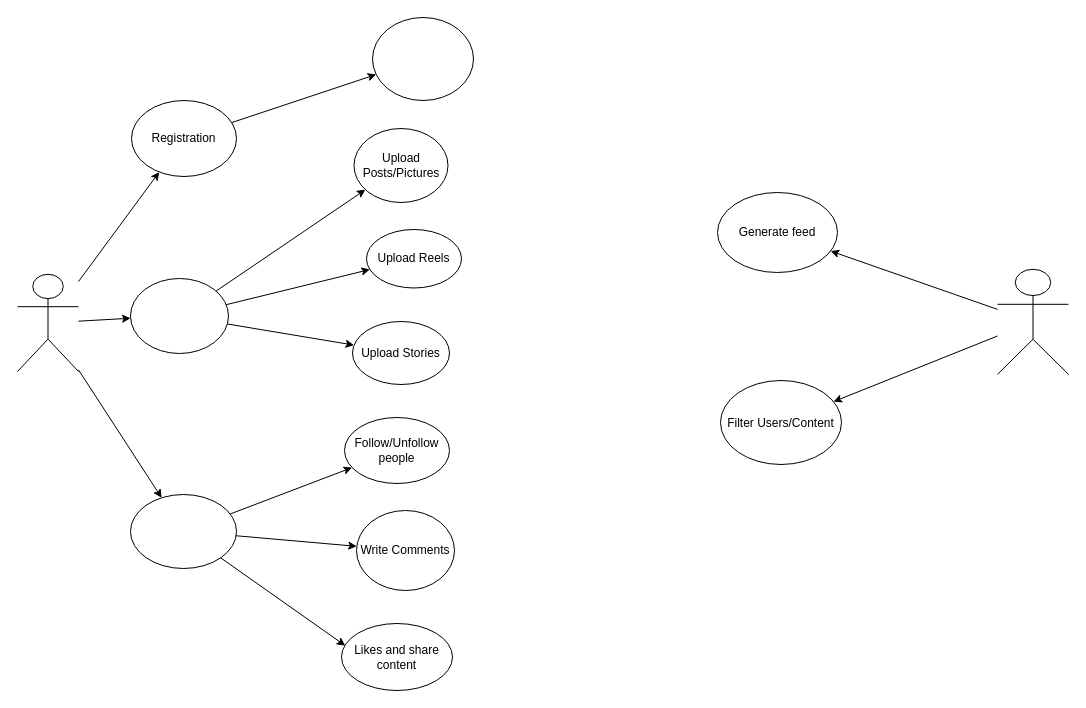
Image size: 1086x708. Some labels were removed from this diagram. Here are the shapes that lost their labels. From the top down, the centre of each, then its label:
At [423,58]: "create username and password".
At [47,322]: "User".
At [179,316]: "Create content".
At [1032,321]: "Administrator".
At [183,531]: "Social connections".
